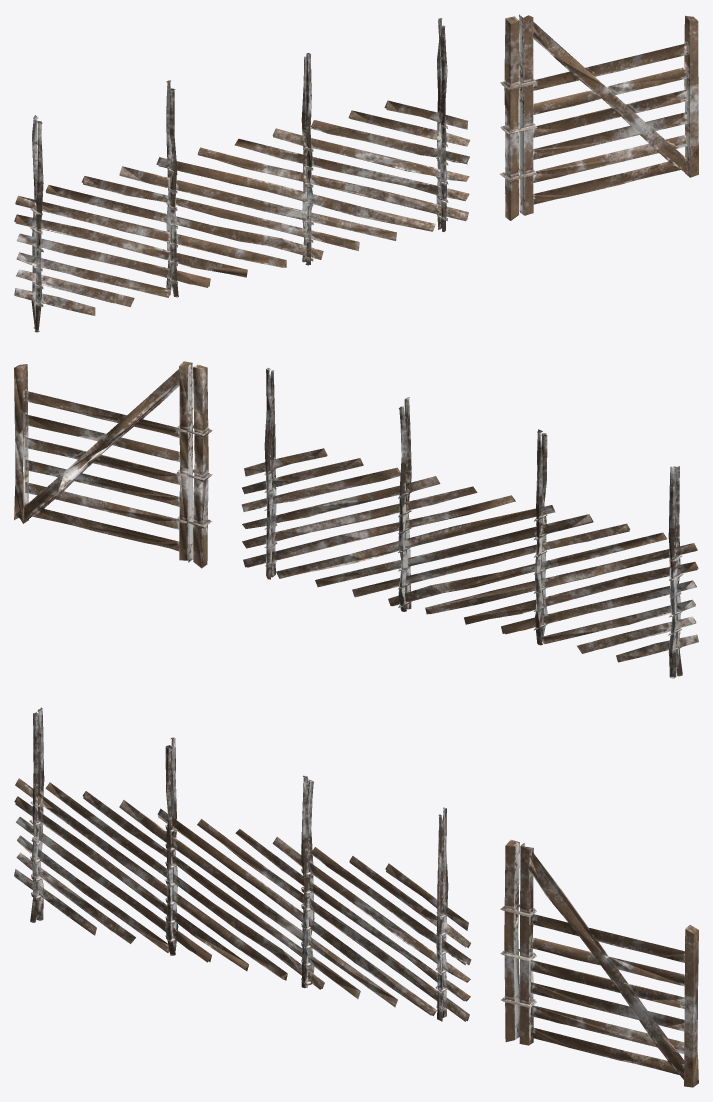
Rendered from ski-fence.glb.
3 renders of one model, top to bottom at view 1: azimuth 30°, elevation 25°; view 2: azimuth 150°, elevation 25°; view 3: azimuth 330°, elevation 25°, orthographic.
Parts seen in each view (by area): view 1: ski-fence; view 2: ski-fence; view 3: ski-fence.
Boxes of the visible parts, bbox=[...] form: ski-fence: bbox=[14, 14, 698, 332]; ski-fence: bbox=[14, 361, 698, 678]; ski-fence: bbox=[14, 707, 698, 1087].
Size of the model in its own units: 4.56 by 1.4 by 0.1073.
Materials: 1 (1 with a texture image).
